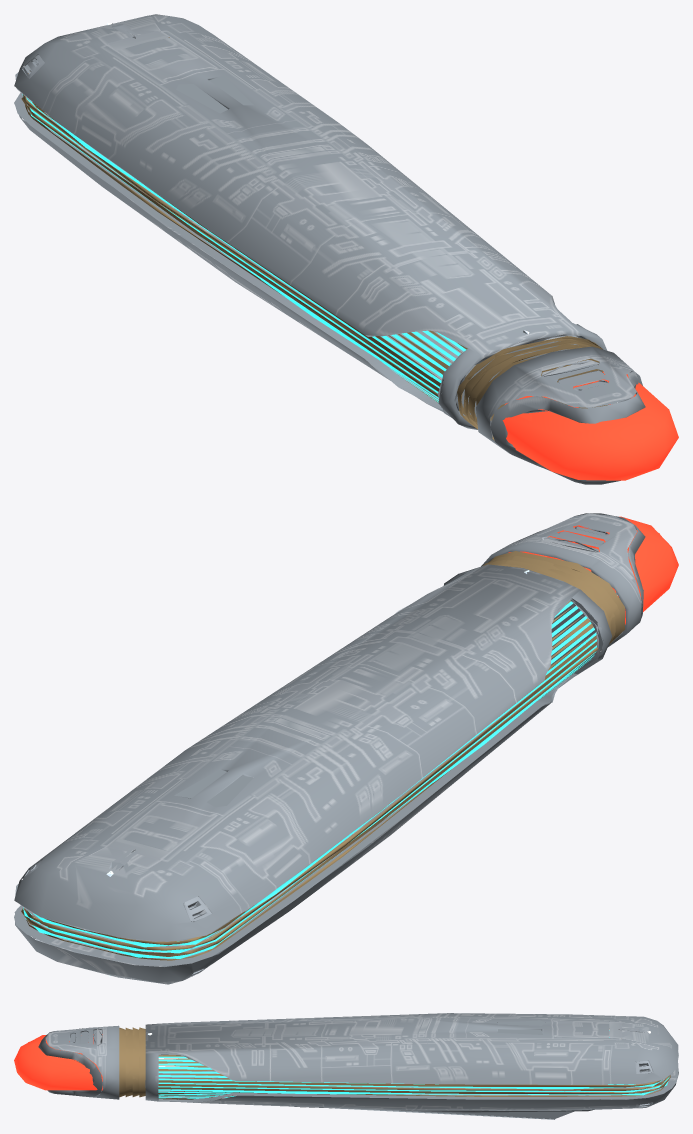
Rendered from GalaxyNacelle_Port_LOD1.fbx.
The picture shows the model from 3 angles, top to bottom: view 1: azimuth 30°, elevation 25°; view 2: azimuth 150°, elevation 25°; view 3: azimuth 270°, elevation 25°; orthographic projection. The views are drawn at different scales.
Visible parts, largest first — view 1: GalaxyNacelle_Port_LOD1; view 2: GalaxyNacelle_Port_LOD1; view 3: GalaxyNacelle_Port_LOD1.
Part boxes in pixels (bbox=[...]): GalaxyNacelle_Port_LOD1: bbox=[14, 14, 678, 484]; GalaxyNacelle_Port_LOD1: bbox=[14, 513, 678, 984]; GalaxyNacelle_Port_LOD1: bbox=[14, 1013, 678, 1119].
Size of the model in its own units: 5309 by 3728 by 25094.
7 materials, 3 textured.
